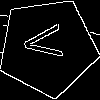V: (22, 22, 72, 62)
